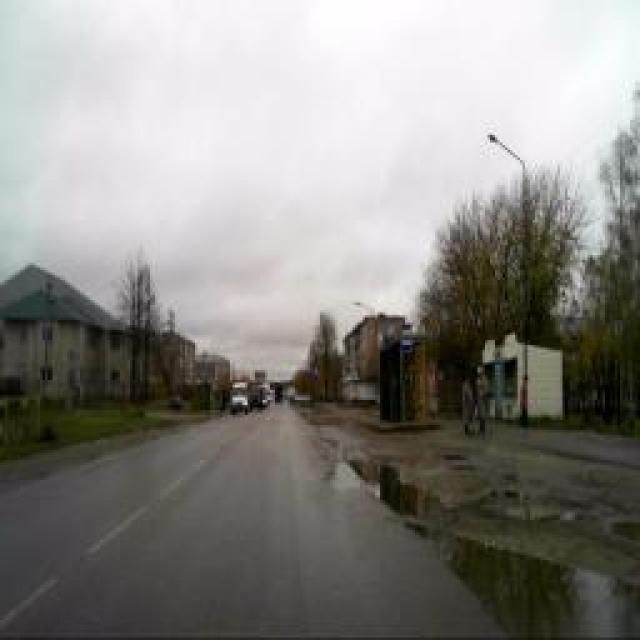sign: (400, 322, 412, 352)
